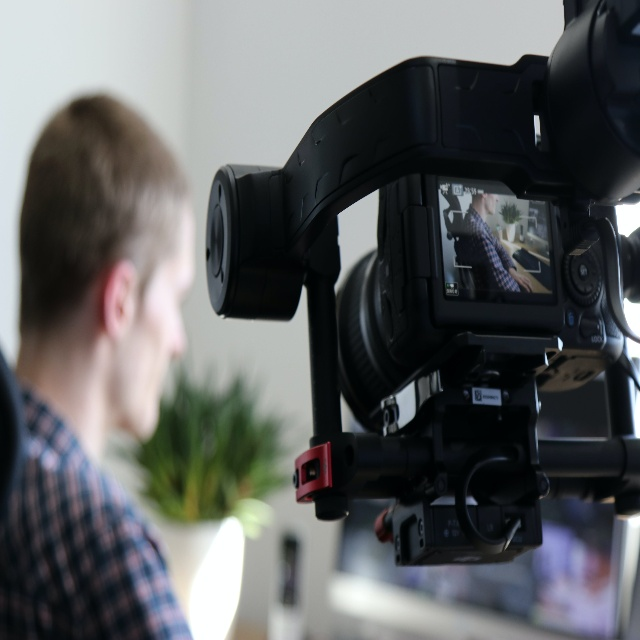Sin_guantes: (515, 272, 533, 293)
